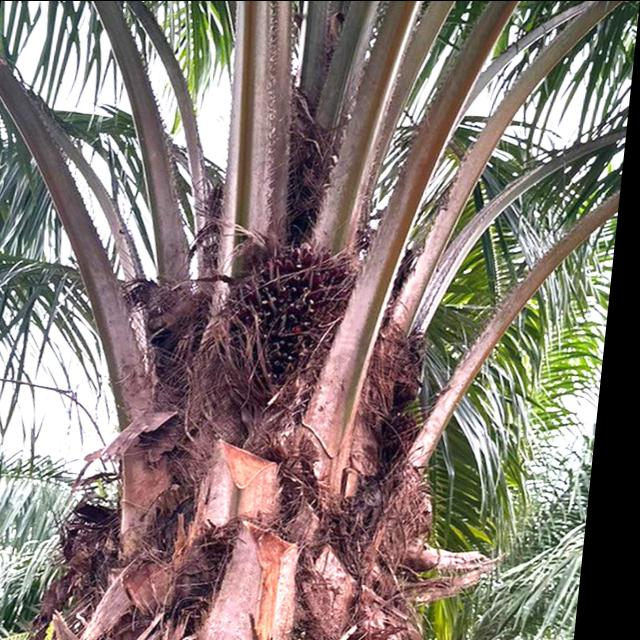ripe: (210, 226, 379, 400)
